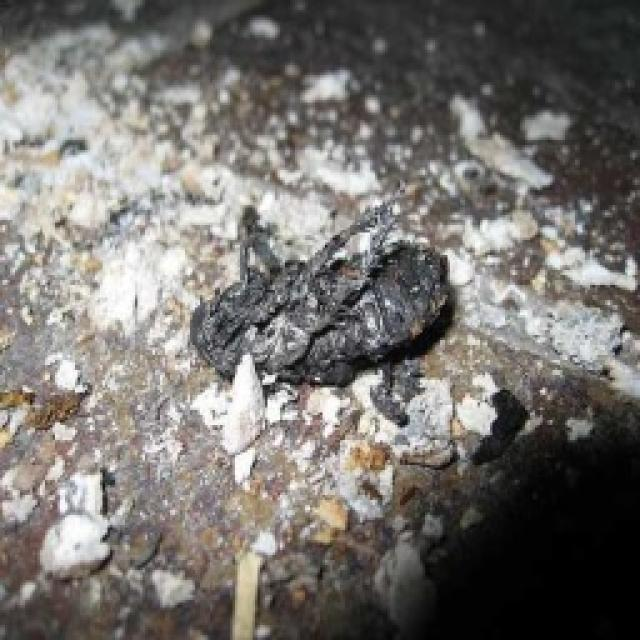cockroach: (181, 184, 467, 443)
